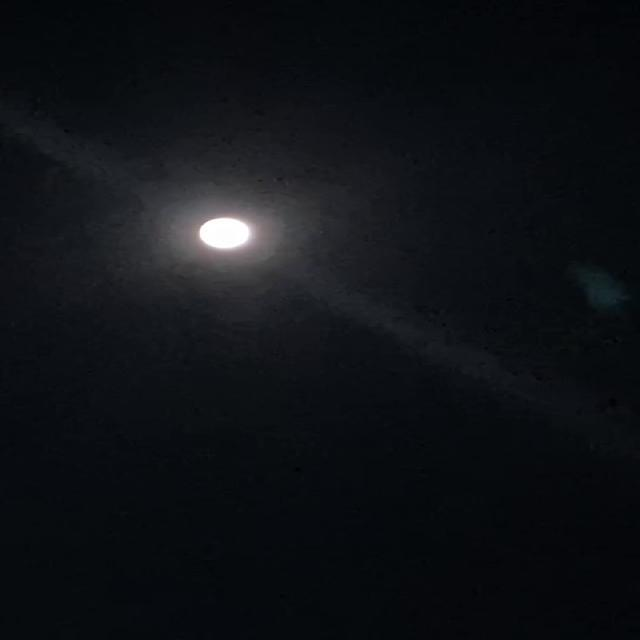moon: (171, 212, 261, 258)
